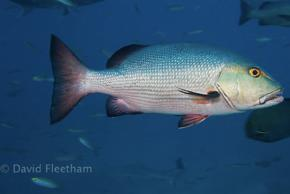Lutjanidae -Snappers-: (43, 26, 287, 133)
